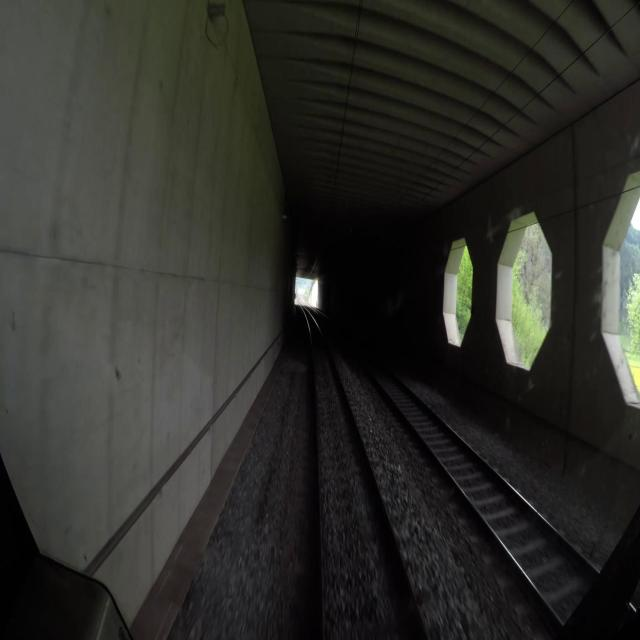rail-track: (325, 318, 562, 578), (304, 309, 425, 639)
